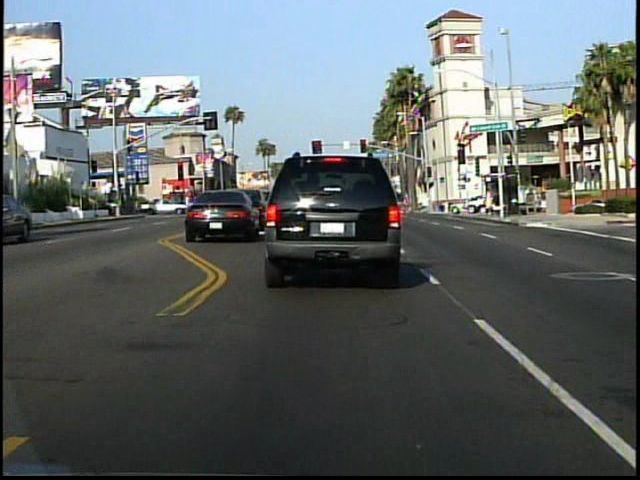person: (483, 187, 496, 219)
